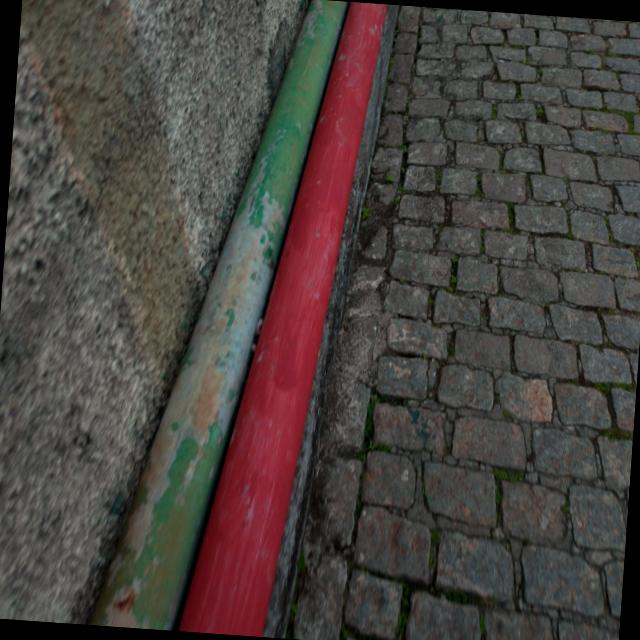gas: (89, 0, 346, 629), (176, 1, 385, 636)
